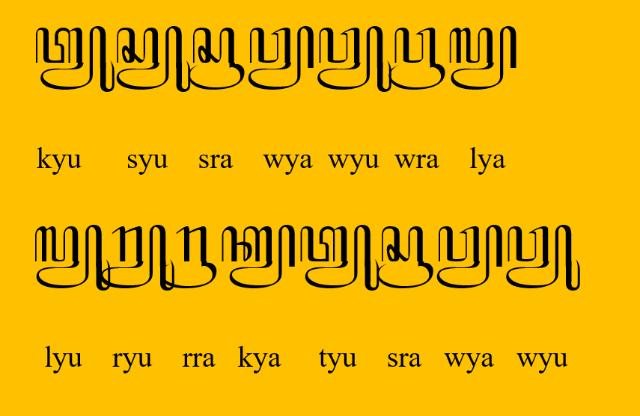ky: (222, 224, 296, 290)
kyu: (34, 25, 116, 92)
ly: (449, 26, 517, 90)
lyu: (34, 226, 112, 292)
rr: (160, 226, 218, 288)
ryu: (101, 226, 175, 292)
sr: (376, 225, 434, 289), (188, 28, 246, 90)
syu: (116, 25, 192, 92)
tyu: (300, 224, 380, 292)
wr: (388, 27, 446, 90)
wy: (437, 224, 503, 290), (249, 26, 315, 90)
wyu: (506, 224, 580, 292), (318, 25, 392, 92)
